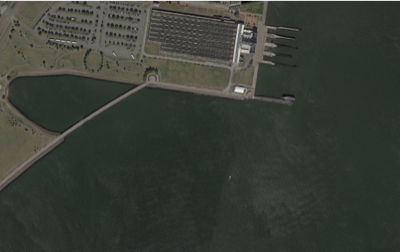boat: (280, 93, 298, 103), (227, 174, 233, 180)
